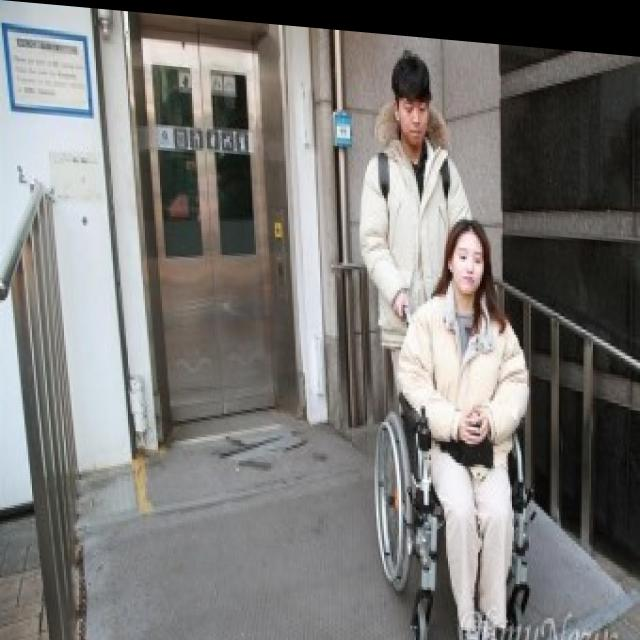wheelchair: (373, 202, 532, 640)
